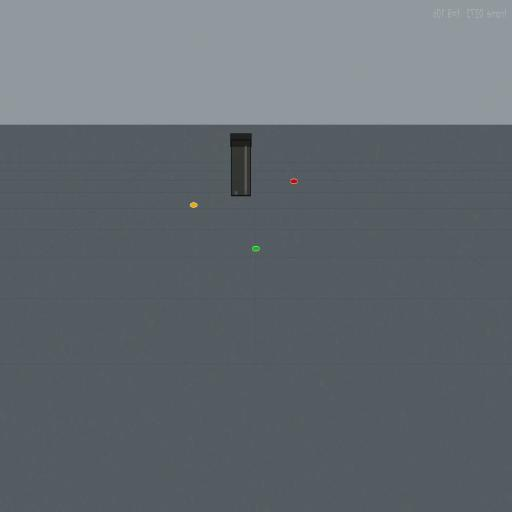bin: (230, 132, 252, 198)
